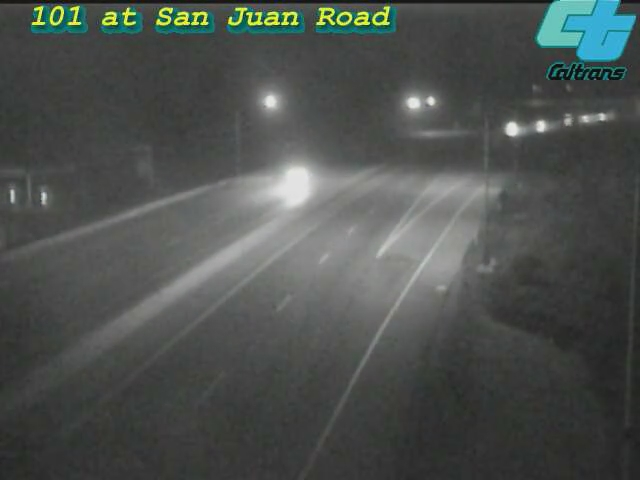vehicle: (253, 144, 333, 224), (578, 92, 628, 142), (563, 93, 613, 143), (541, 94, 591, 144), (517, 100, 567, 150), (486, 104, 536, 154)
